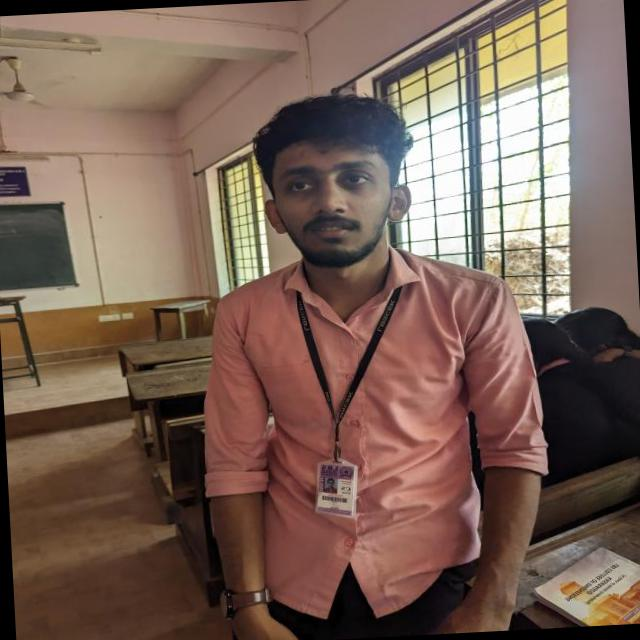id_card: (289, 294, 403, 524)
